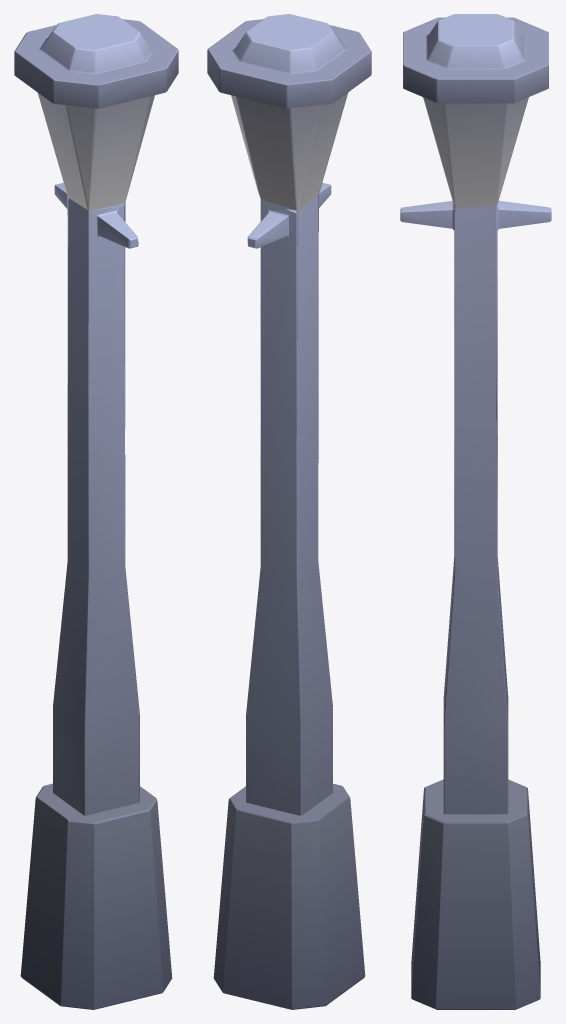
The model's file is kenney-fantasy-town__lantern.glb.
3 renders of one model, left to right at view 1: azimuth 30°, elevation 25°; view 2: azimuth 150°, elevation 25°; view 3: azimuth 270°, elevation 25°, orthographic.
Parts seen in each view (by area): view 1: lantern; view 2: lantern; view 3: lantern.
Part boxes in pixels (x1,y1,x2,y2): lantern: (14,14,178,1009); lantern: (207,14,371,1009); lantern: (400,14,551,1009).
Size of the model in its own units: 0.2165 by 1.56 by 0.2243.
Materials: 1 (1 with a texture image).
